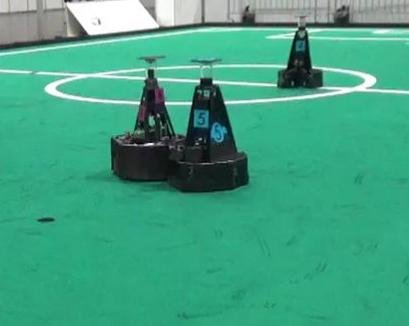robot: (167, 56, 252, 191), (108, 56, 189, 184), (275, 9, 323, 90)
